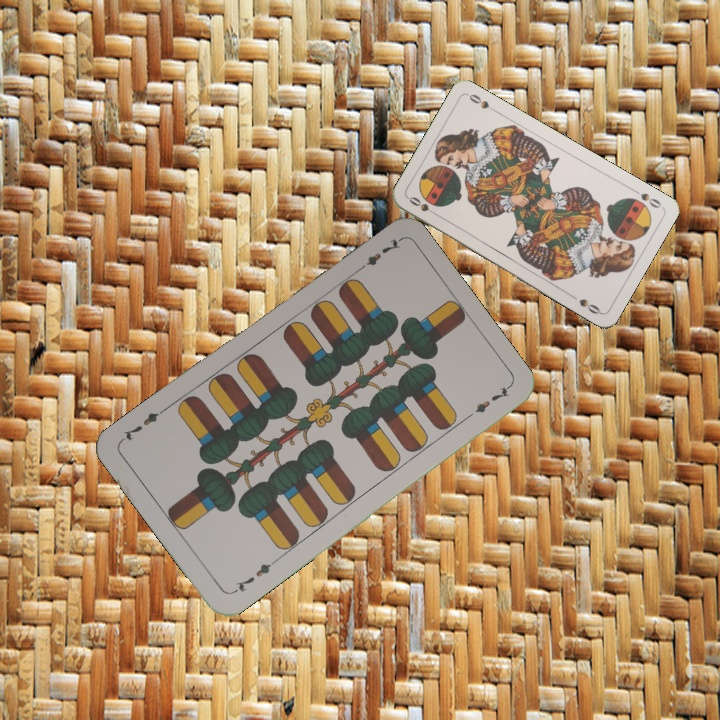E7: (352, 234, 403, 276), (228, 557, 277, 597)
SO: (405, 192, 442, 219), (628, 184, 664, 211)
